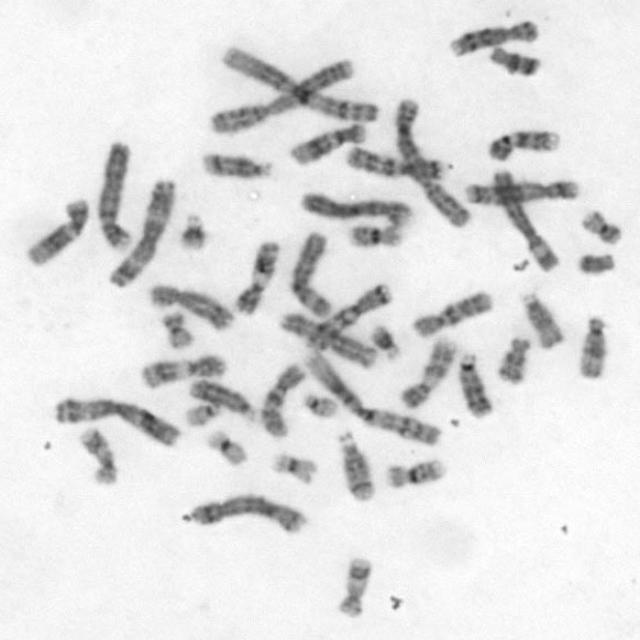A1: (304, 346, 442, 450), (211, 48, 381, 126)
A2: (205, 51, 358, 136), (394, 99, 473, 229)
A3: (108, 177, 178, 290), (50, 394, 184, 452)
B4: (292, 189, 417, 227), (95, 138, 136, 252)
B5: (189, 495, 308, 535), (463, 175, 581, 208)
C10: (409, 289, 495, 340), (255, 358, 307, 439)
C11: (228, 236, 282, 319), (136, 354, 229, 388)
C12: (21, 195, 91, 267), (284, 120, 366, 167)
C6: (488, 166, 562, 268), (285, 230, 335, 318)
C7: (292, 284, 392, 349), (343, 143, 448, 182)
C8: (144, 284, 235, 332), (444, 17, 539, 58)
C9: (392, 336, 458, 411), (482, 126, 562, 164)
D13: (452, 350, 495, 420), (187, 378, 258, 420)
D14: (330, 431, 378, 504), (194, 149, 278, 182)
D15: (518, 290, 563, 350), (574, 313, 610, 382)
E16: (380, 456, 448, 491), (346, 216, 402, 248)
E17: (74, 424, 121, 486), (332, 551, 373, 620)
E18: (482, 44, 543, 78), (495, 333, 530, 383)
F19: (266, 449, 321, 487), (202, 428, 248, 468)
F20: (574, 207, 625, 247), (156, 310, 196, 349)
G21: (364, 321, 402, 364), (174, 209, 210, 254)
G22: (182, 396, 224, 428), (299, 392, 340, 419)
X: (275, 306, 378, 371)
Y: (572, 250, 618, 276)
